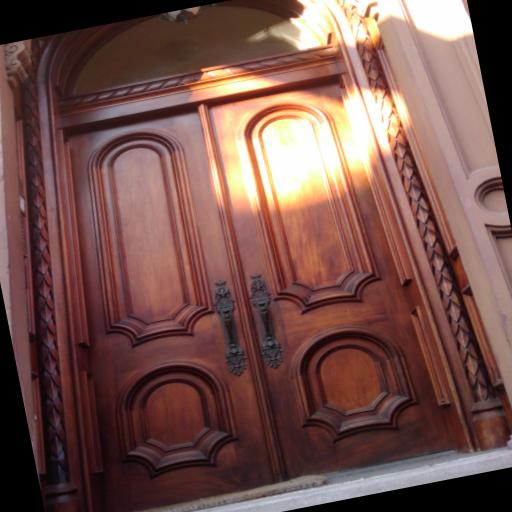Door: (34, 69, 455, 512)
